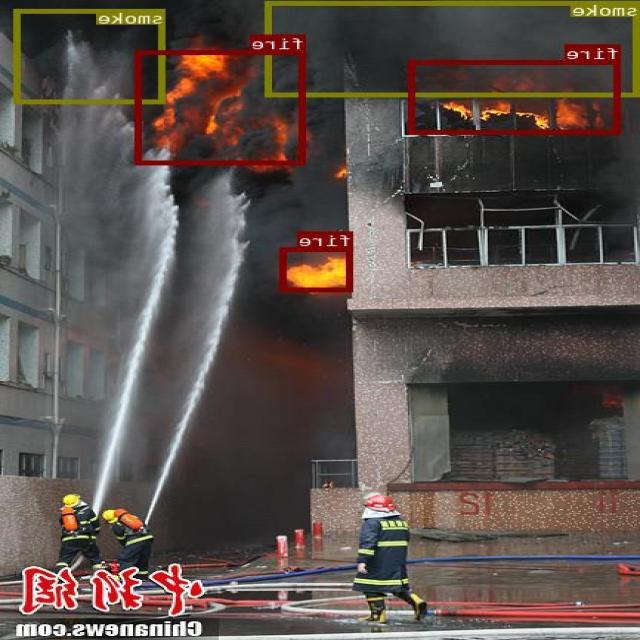fire: (136, 49, 306, 164), (411, 60, 621, 134), (281, 247, 354, 291)
smoke: (266, 0, 640, 96), (16, 9, 166, 103)
